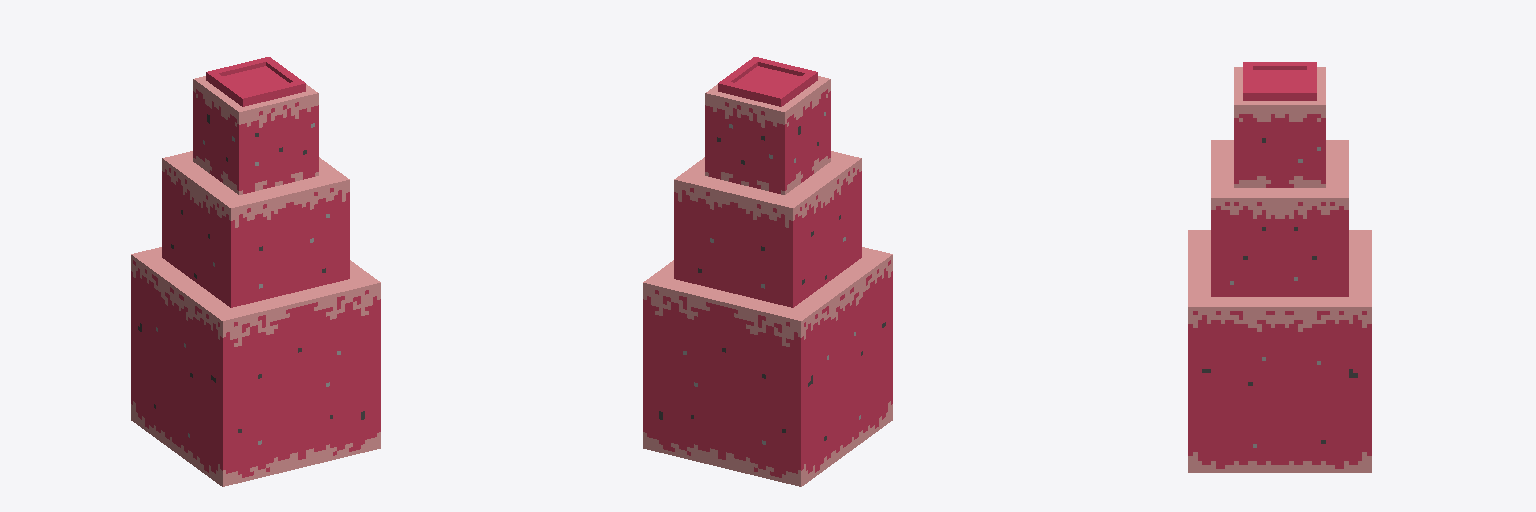
3 renders of one model, left to right at view 1: azimuth 30°, elevation 25°; view 2: azimuth 150°, elevation 25°; view 3: azimuth 270°, elevation 25°, orthographic.
Parts seen in each view (by area): view 1: top; view 2: top; view 3: top.
Part boxes in pixels (x1,y1,x2,y2): top: (131,57,380,486); top: (643,57,892,486); top: (1188,62,1371,472).
Bounding box in the file's own units: 40 × 86 × 40.
1 materials, 1 textured.